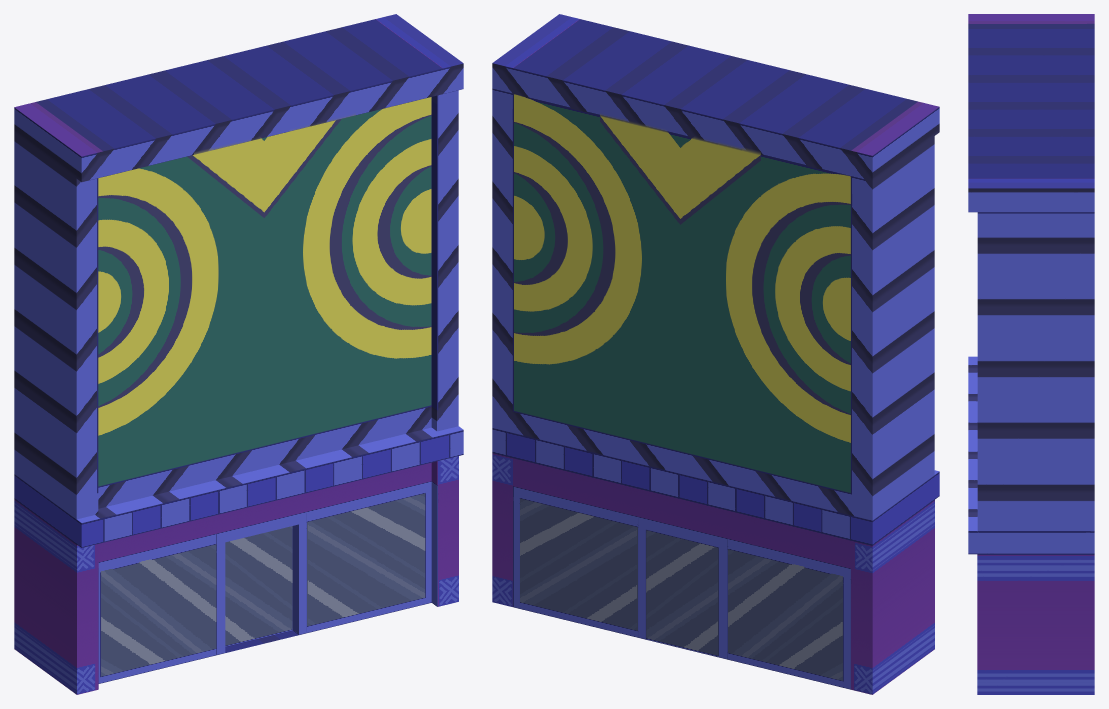
Rendered from StoreBldg1.fbx.
The picture shows the model from 3 angles, left to right: view 1: azimuth 30°, elevation 25°; view 2: azimuth 150°, elevation 25°; view 3: azimuth 270°, elevation 25°; orthographic projection. The views are drawn at different scales.
Visible parts, largest first — view 1: StoreBldg1; view 2: StoreBldg1; view 3: StoreBldg1.
Boxes of the visible parts, <box> form: StoreBldg1: <box>14,14,463,694</box>; StoreBldg1: <box>492,14,939,694</box>; StoreBldg1: <box>968,14,1094,694</box>.
Bounding box in the file's own units: 6.94 × 9.4 × 2.12.
1 material, 1 textured.
